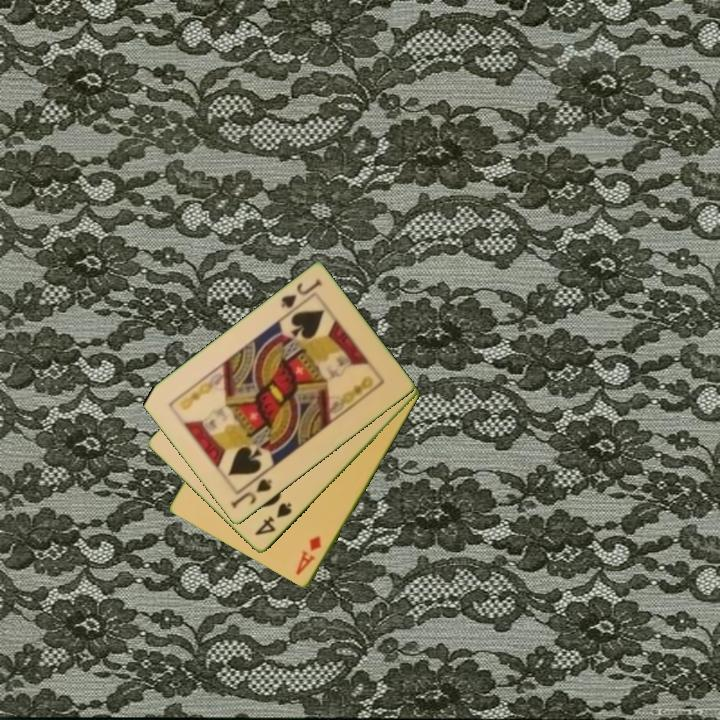4s: (251, 499, 295, 539)
Ad: (292, 533, 325, 578)
Js: (227, 475, 275, 512), (277, 275, 325, 312)
